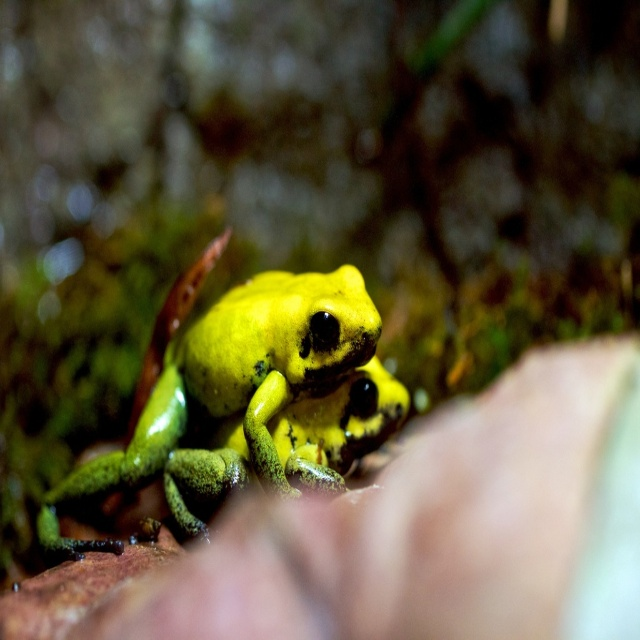Frog: (35, 264, 383, 562)
